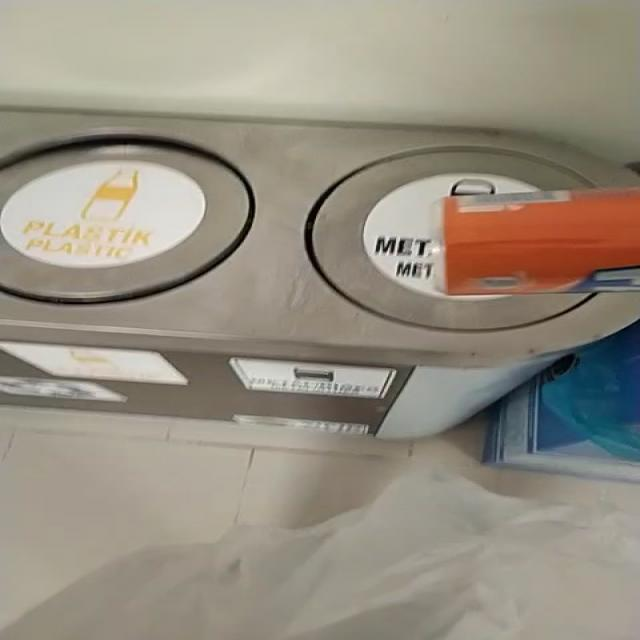Bin: (0, 109, 637, 440), (0, 111, 633, 360)
Metal: (440, 189, 640, 296)
